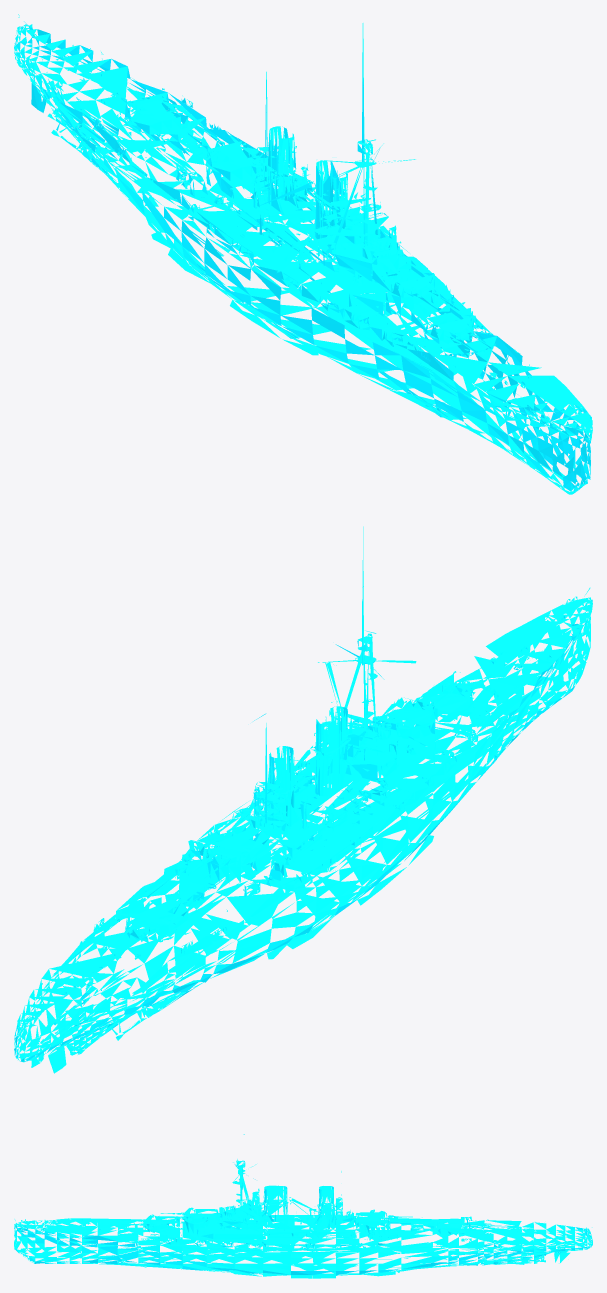
The model's file is Mackensen.glb.
3 renders of one model, top to bottom at view 1: azimuth 30°, elevation 25°; view 2: azimuth 150°, elevation 25°; view 3: azimuth 270°, elevation 25°, orthographic. The views are drawn at different scales.
Bounding box in the file's own units: 2.03 × 4.56 × 14.86.
